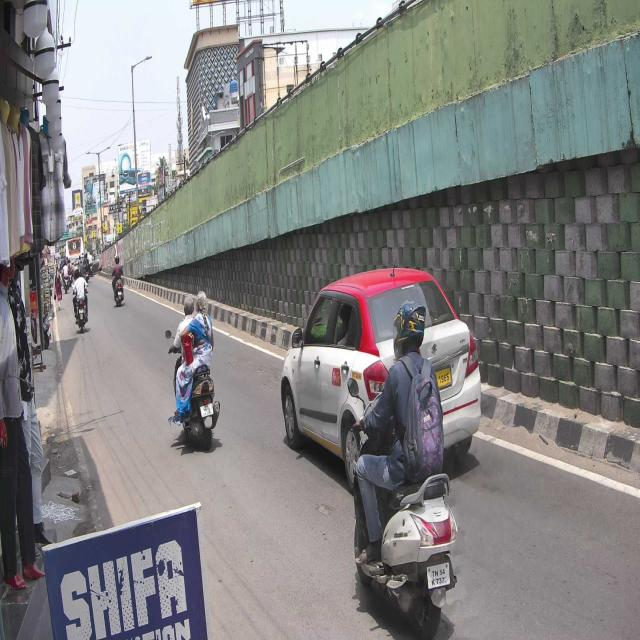double_rider: (165, 290, 221, 453)
single_rider: (346, 301, 459, 640)
